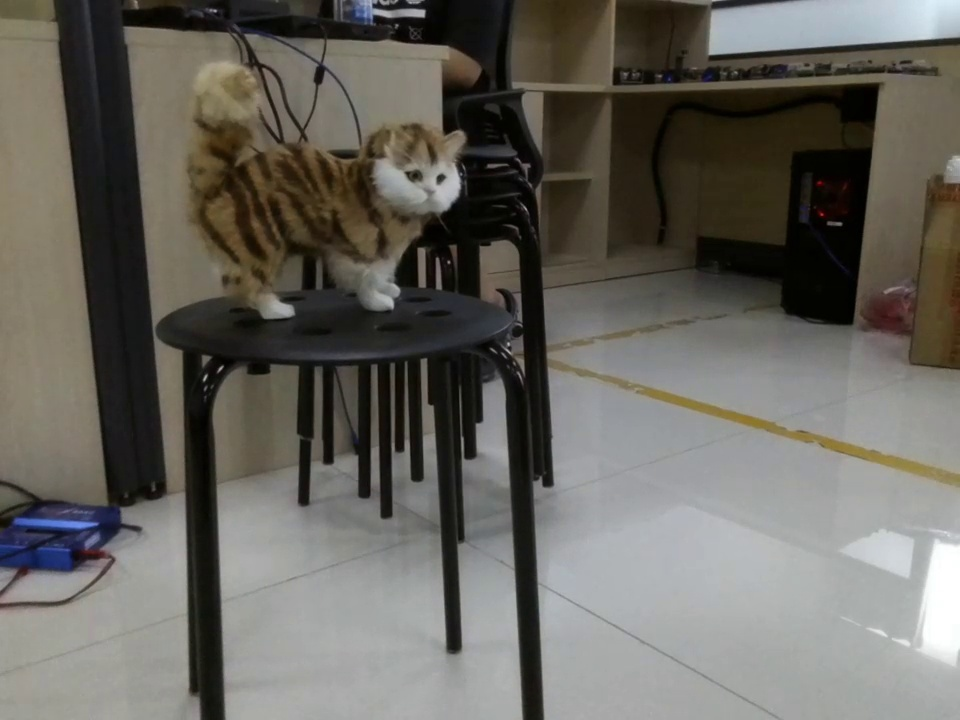cat: (183, 61, 465, 322)
